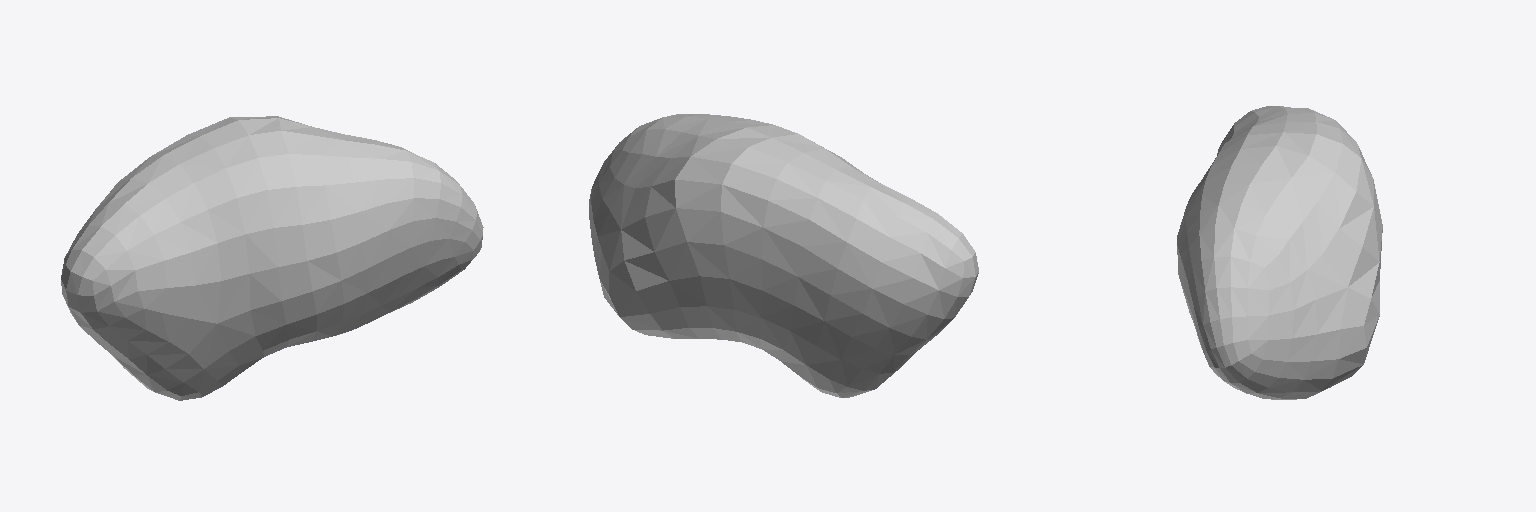
The model's file is TreeShaderTrial.obj.
3 renders of one model, left to right at view 1: azimuth 30°, elevation 25°; view 2: azimuth 150°, elevation 25°; view 3: azimuth 270°, elevation 25°, orthographic.
Visible parts, largest first — view 1: Group45923; view 2: Group45923; view 3: Group45923.
Part boxes in pixels (bbox=[...]): Group45923: bbox=[61, 116, 483, 400]; Group45923: bbox=[589, 114, 978, 397]; Group45923: bbox=[1177, 106, 1382, 399].
Bounding box in the file's own units: 4.6 × 2.7 × 2.06.